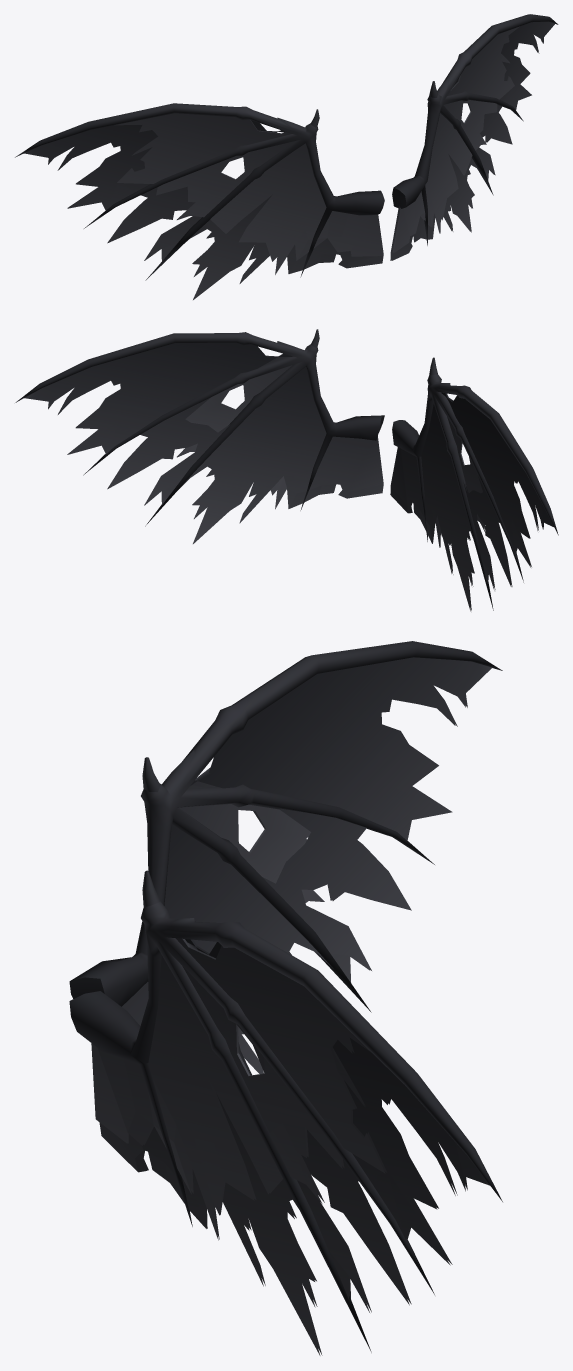
The model's file is Wings_5.fbx.
3 views of the same model, one above another, from view 1: azimuth 30°, elevation 25°; view 2: azimuth 150°, elevation 25°; view 3: azimuth 270°, elevation 25° (orthographic). The views are drawn at different scales.
Parts seen in each view (by area): view 1: Model:Mesh; view 2: Model:Mesh; view 3: Model:Mesh.
Part boxes in pixels (x1,y1,x2,y2): Model:Mesh: (15, 14, 558, 299); Model:Mesh: (15, 329, 558, 611); Model:Mesh: (69, 641, 502, 1355).
Bounding box in the file's own units: 9.17 × 3.28 × 3.16.
